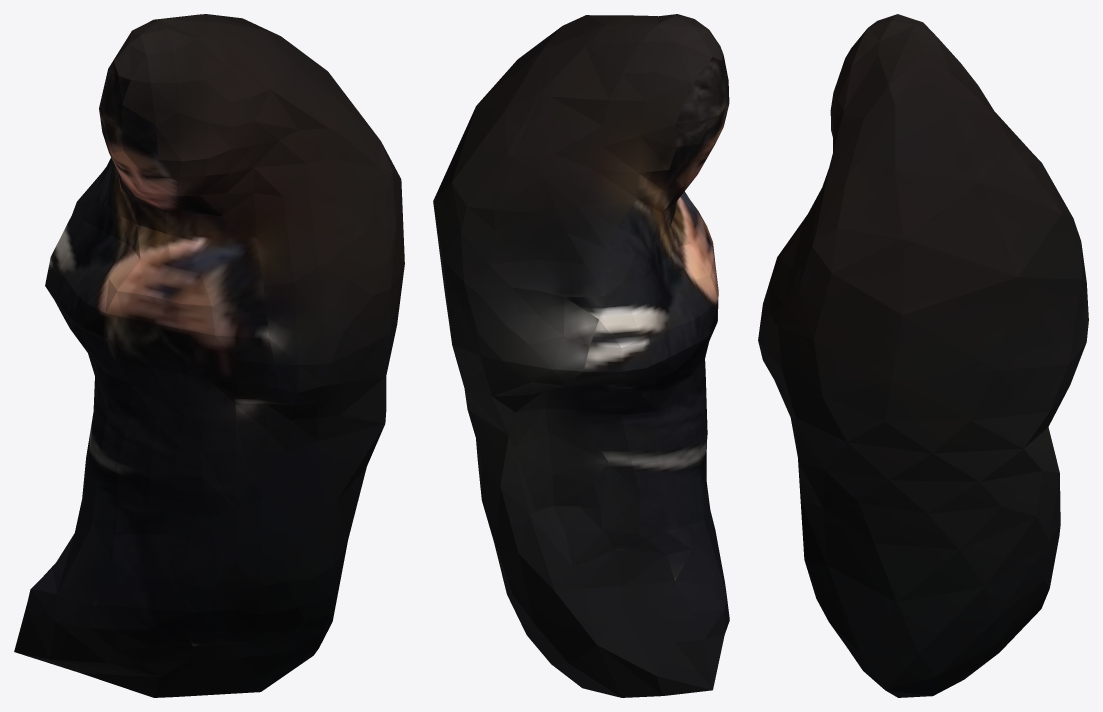
3 renders of one model, left to right at view 1: azimuth 30°, elevation 25°; view 2: azimuth 150°, elevation 25°; view 3: azimuth 270°, elevation 25°, orthographic. The views are drawn at different scales.
Bounding box in the file's own units: 0.5381 × 1.17 × 0.5466.
Materials: 1 (1 with a texture image).
